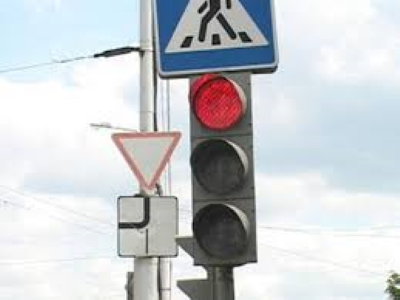crosswalk: (155, 1, 276, 68)
trafficlight_red: (189, 75, 254, 260)
